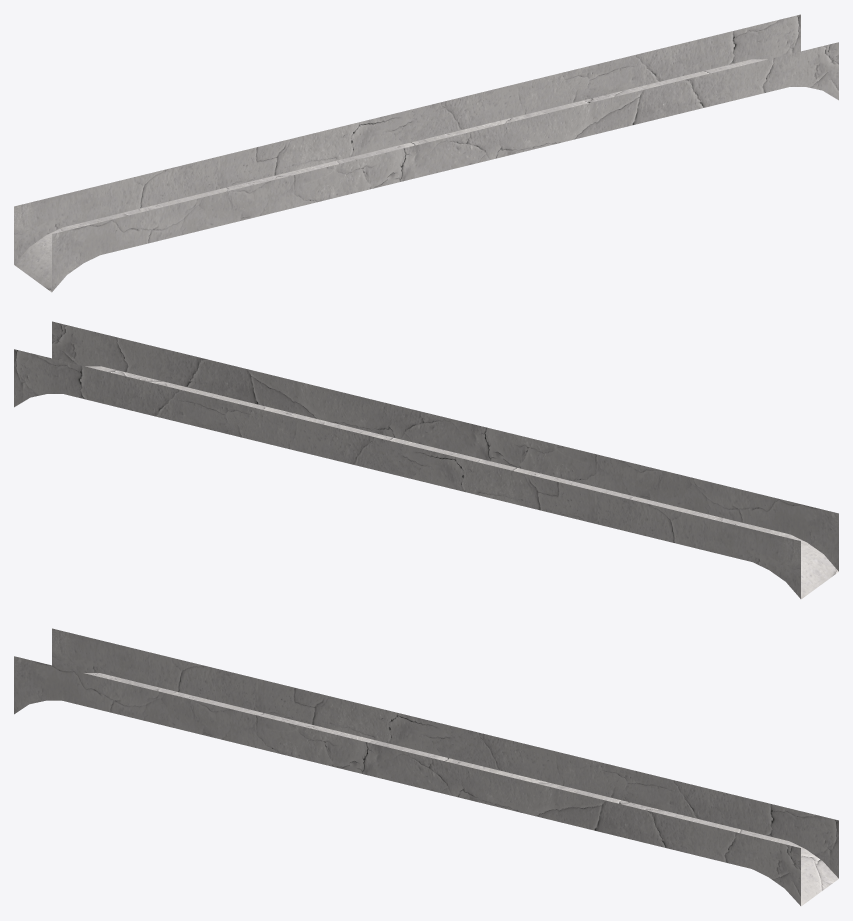
Rendered from SupportBeam_Big.fbx.
3 renders of one model, top to bottom at view 1: azimuth 30°, elevation 25°; view 2: azimuth 150°, elevation 25°; view 3: azimuth 330°, elevation 25°, orthographic.
Parts seen in each view (by area): view 1: SupportBeam_Big; view 2: SupportBeam_Big; view 3: SupportBeam_Big.
Part boxes in pixels (bbox=[...]): SupportBeam_Big: bbox=[14, 14, 838, 292]; SupportBeam_Big: bbox=[14, 321, 838, 599]; SupportBeam_Big: bbox=[14, 628, 838, 906].
Bounding box in the file's own units: 5.4 × 0.3826 × 0.45.
